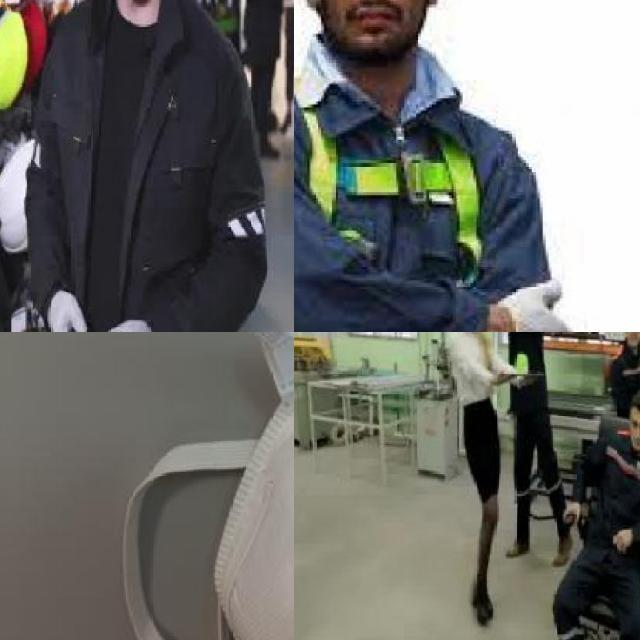apron: (499, 276, 582, 332), (47, 289, 96, 332), (93, 309, 160, 332)
